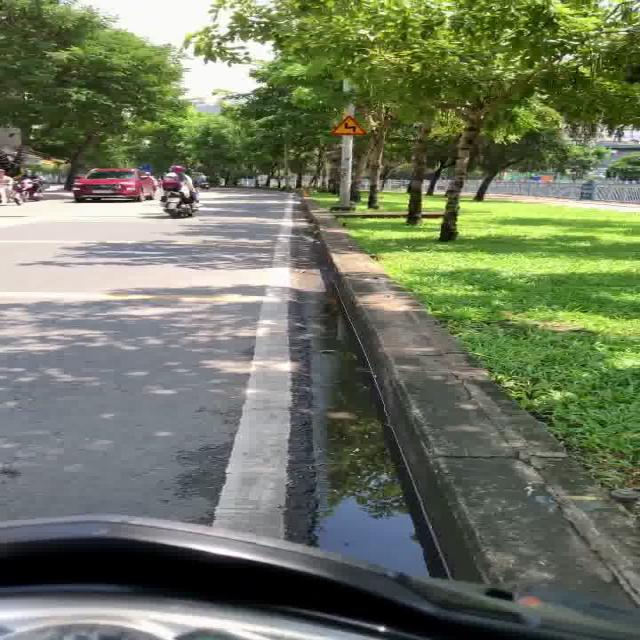Bien bao nhieu cho ngoat nguy hiem lien tiep: (327, 114, 372, 137)
